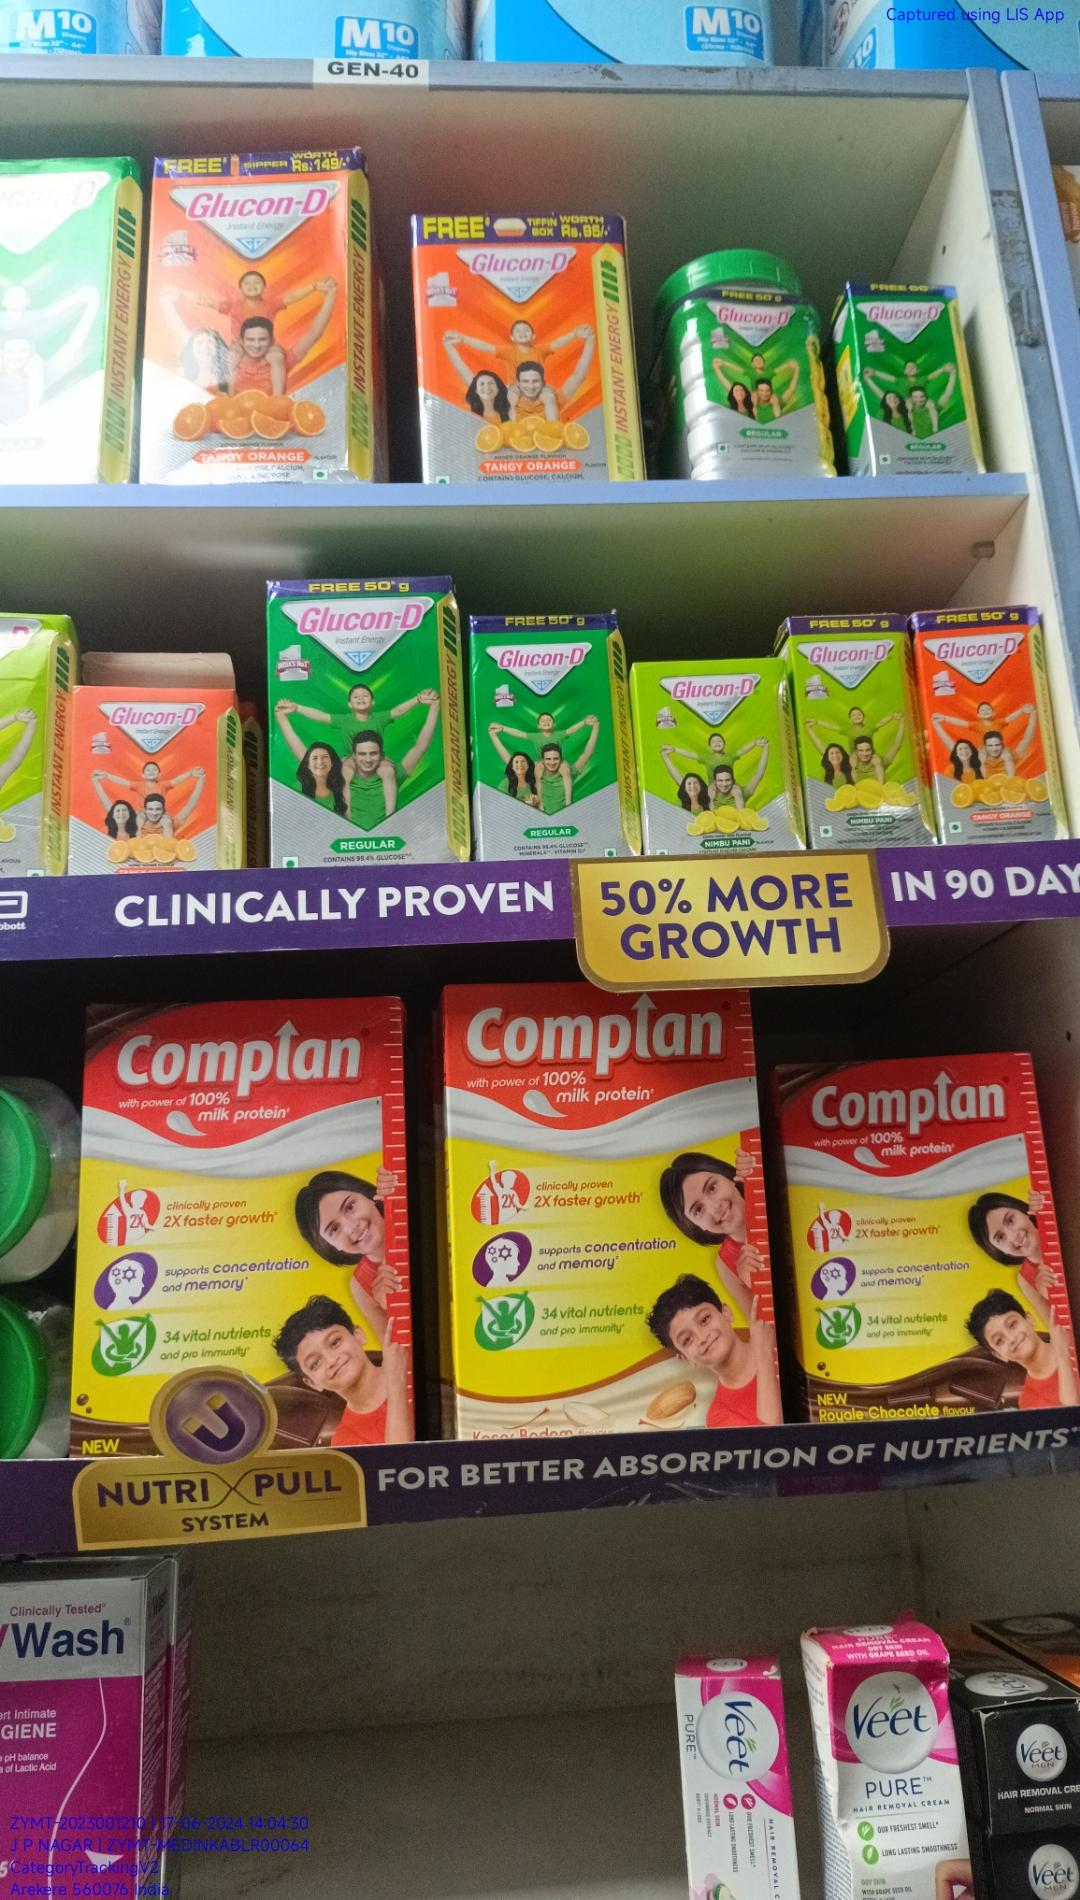COMPLAN_CHOCOLATE_200_GMS_PACK: (806, 1052, 1064, 1418)
COMPLAN_CHOCOLATE_500_GMS_PACK: (81, 1009, 407, 1448)
COMPLAN_KESAR_BADAM_500_GMS_PACK: (449, 992, 763, 1429)
